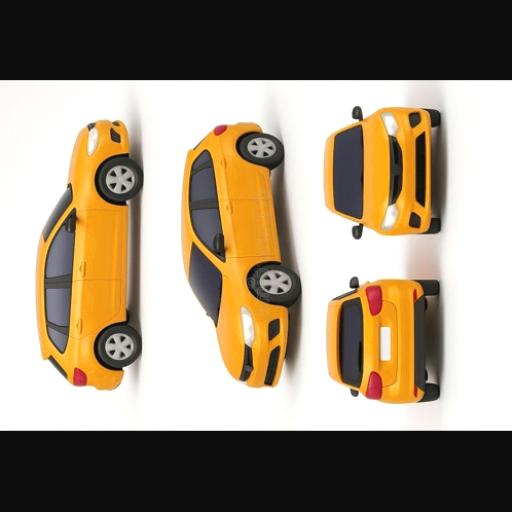hatchback: (181, 122, 299, 386), (36, 118, 142, 389), (323, 105, 440, 237), (326, 276, 438, 401)
